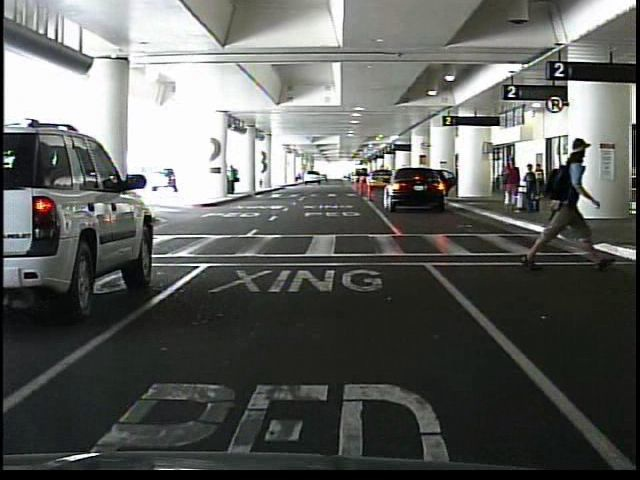person: (525, 135, 609, 269), (496, 157, 518, 210), (521, 162, 538, 212), (534, 164, 545, 199), (227, 164, 238, 196)
